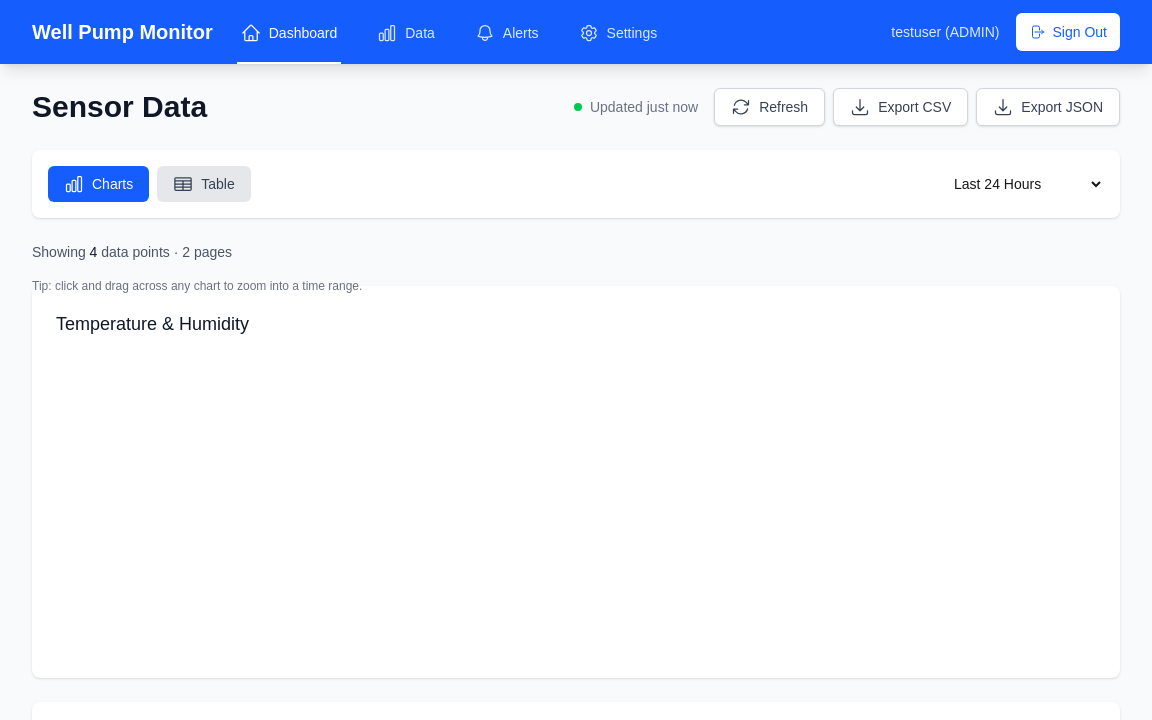
Test: DataPage — range & pagination › renders every accumulated row in the table view
This screenshot has width=1152, height=720.
Expected: the element with test id "coverage-summary" shows "4 data points", [32,244,232,260]
Note: Switch to the table view and count rendered data rows.
What coordinates should you click on to do the following:
click the button "Table"
I would click on:
 (204, 184)
Its box is [157,166,251,202].
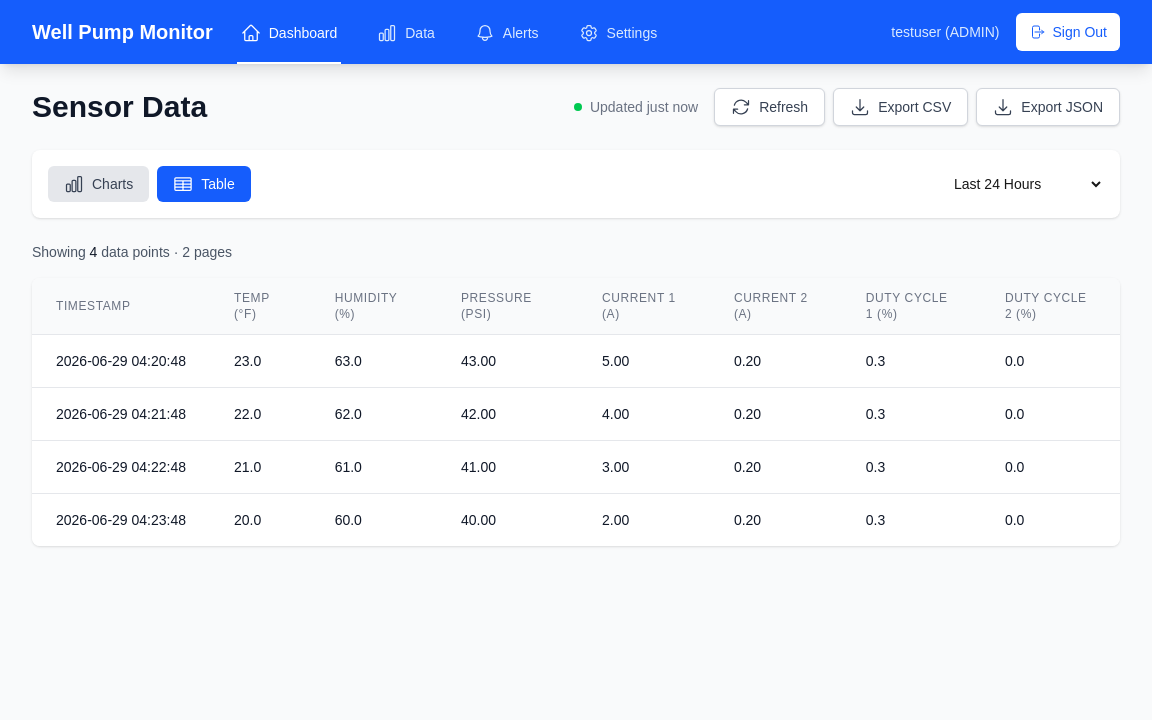
Expected: the number of rows is 5, [32,278,1120,334]; [32,334,1120,388]; [32,388,1120,440]; [32,440,1120,494]; [32,494,1120,546]
